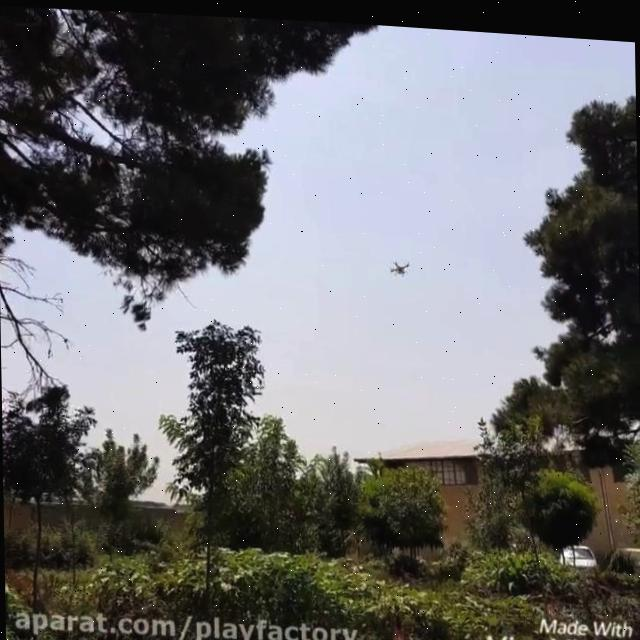drone: (384, 249, 412, 274)
